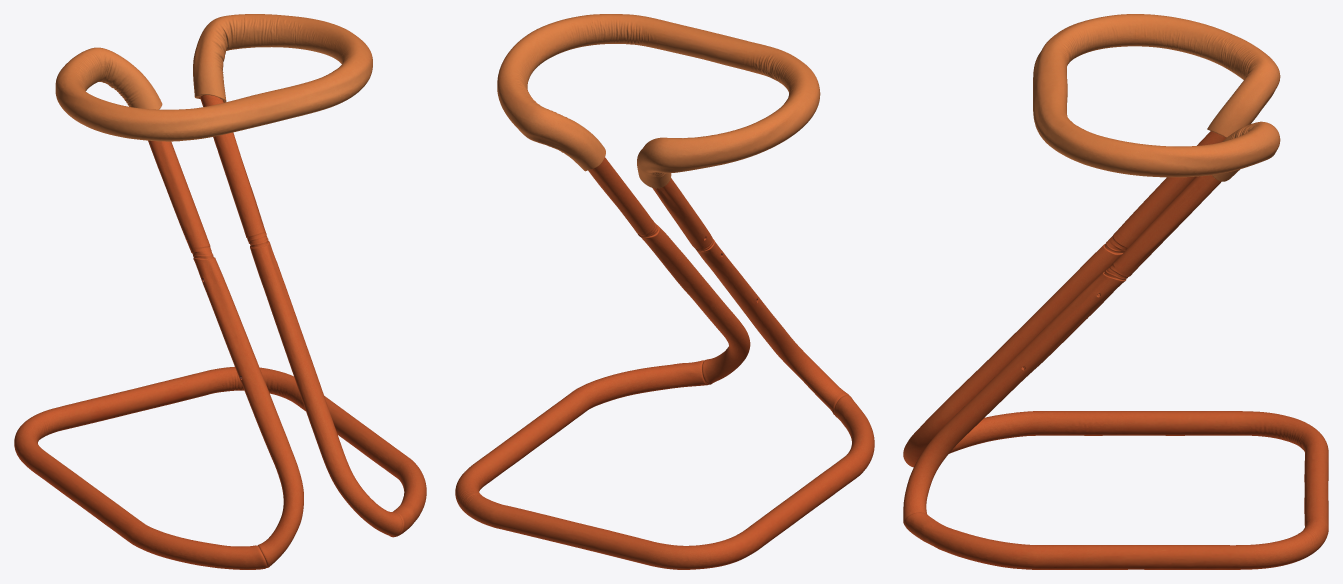
File: Meshy_AI_Orange_Loop_Chair_1117041942_texture.glb
3 renders of one model, left to right at view 1: azimuth 30°, elevation 25°; view 2: azimuth 150°, elevation 25°; view 3: azimuth 270°, elevation 25°, orthographic. The views are drawn at different scales.
Size of the model in its own units: 0.3276 by 0.45 by 0.4085.
Materials: 1 (1 with a texture image).
